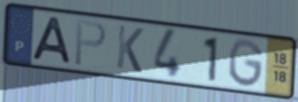1: (201, 36, 222, 83)
4: (152, 25, 184, 82)
A: (29, 15, 75, 67)
G: (227, 37, 266, 90)
K: (114, 23, 146, 76)
P: (72, 18, 108, 69)
